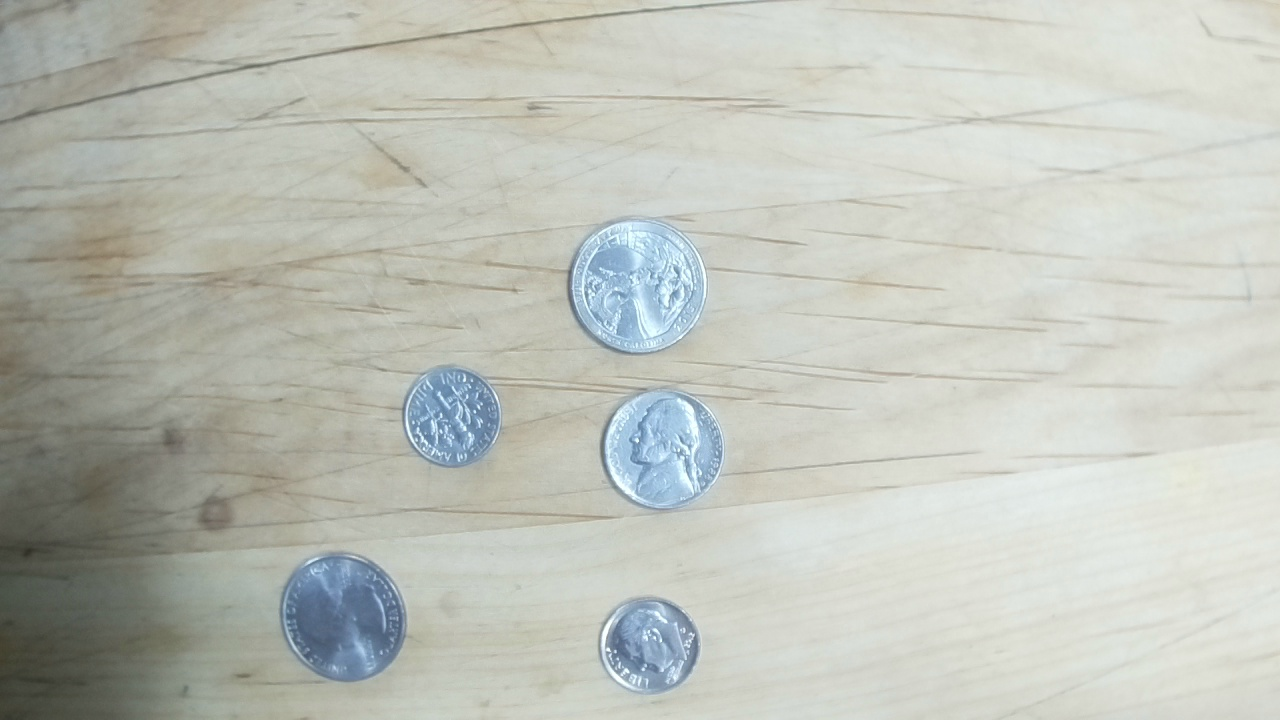dime: (401, 364, 502, 468), (597, 595, 701, 695)
nickel: (601, 386, 725, 510)
quarter: (567, 217, 709, 355), (281, 551, 407, 683)
